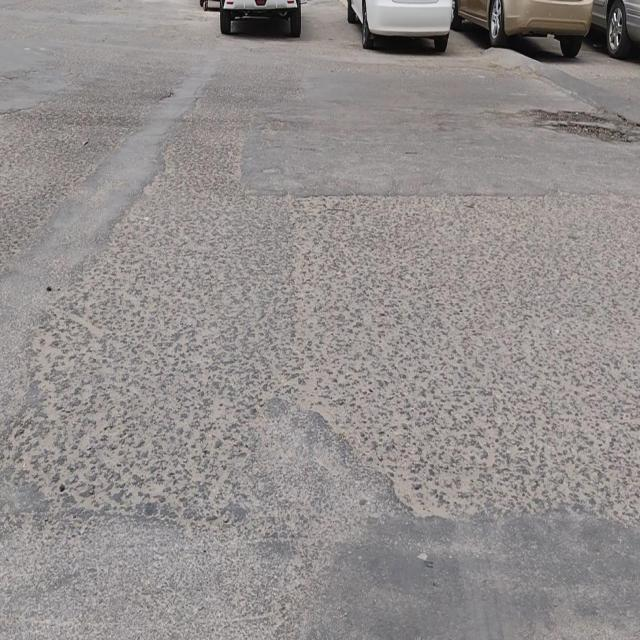Potholes: (532, 110, 640, 146)
